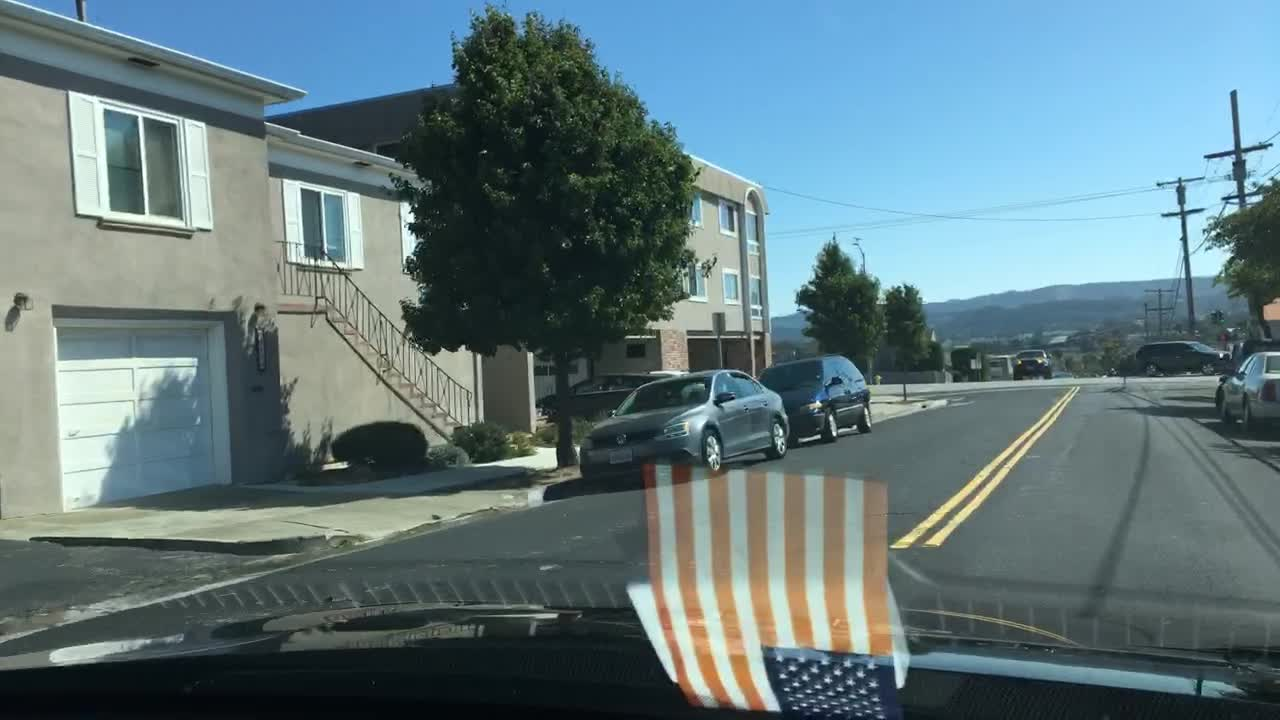car: (578, 365, 791, 491), (758, 354, 874, 450), (532, 368, 696, 421), (1212, 351, 1278, 431), (1132, 339, 1235, 380), (1230, 336, 1278, 378), (1008, 346, 1051, 381)
